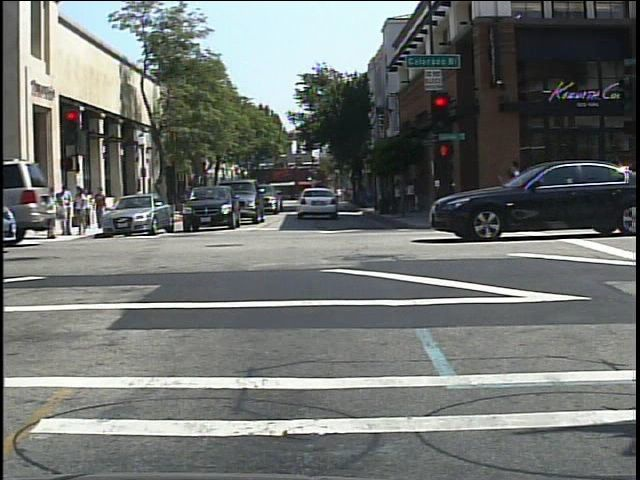person: (82, 185, 98, 229), (180, 181, 197, 221), (132, 185, 147, 217)
